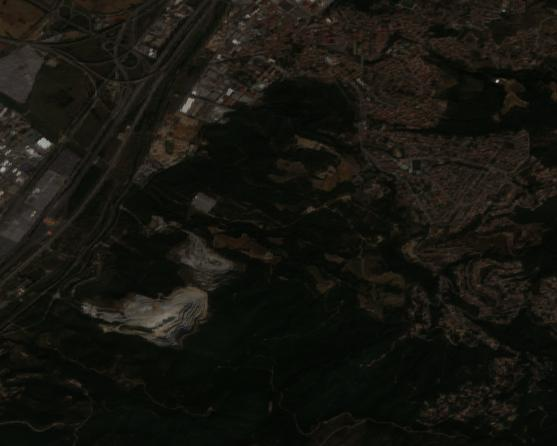Industria: (65, 209, 286, 327), (124, 1, 257, 163), (1, 89, 123, 265)
Poblacion: (225, 1, 557, 126), (347, 101, 557, 287)
